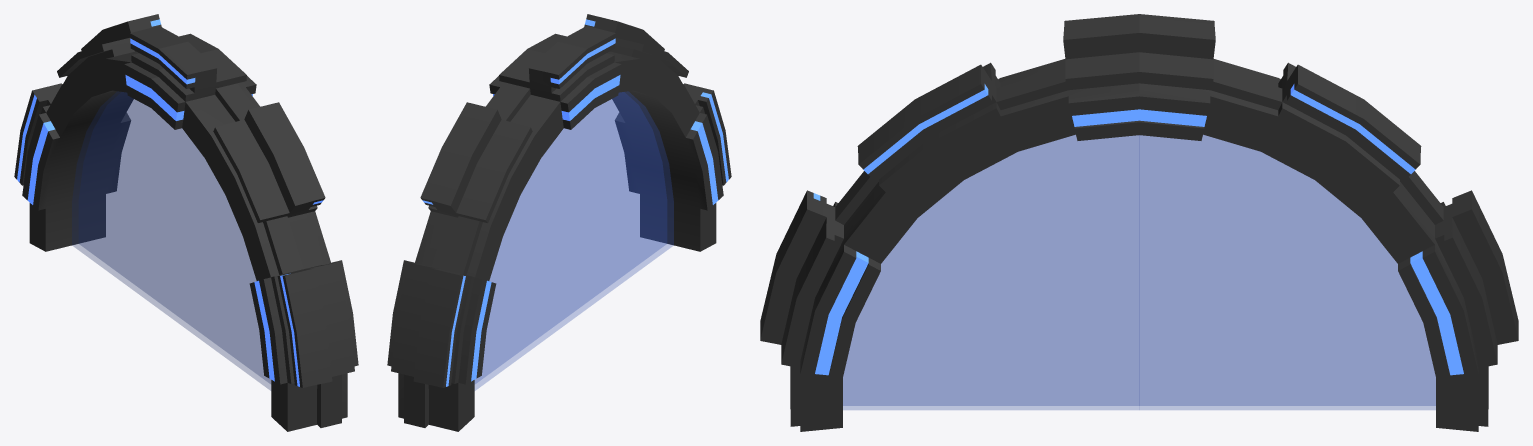
Rendered from BlueGateReg.fbx.
3 views of the same model, side by side, from view 1: azimuth 30°, elevation 25°; view 2: azimuth 150°, elevation 25°; view 3: azimuth 270°, elevation 25° (orthographic). The views are drawn at different scales.
Parts seen in each view (by area): view 1: gate_groud_blue, blue; view 2: gate_groud_blue, blue; view 3: blue, gate_groud_blue.
Part boxes in pixels (x1=…): gate_groud_blue: x1=14, y1=14, x2=358, y2=431; blue: x1=72, y1=91, x2=271, y2=390; gate_groud_blue: x1=387, y1=14, x2=731, y2=431; blue: x1=474, y1=91, x2=673, y2=390; blue: x1=843, y1=135, x2=1435, y2=409; gate_groud_blue: x1=760, y1=14, x2=1518, y2=431.
Size of the model in its own units: 1.12 by 3.95 by 7.14.
